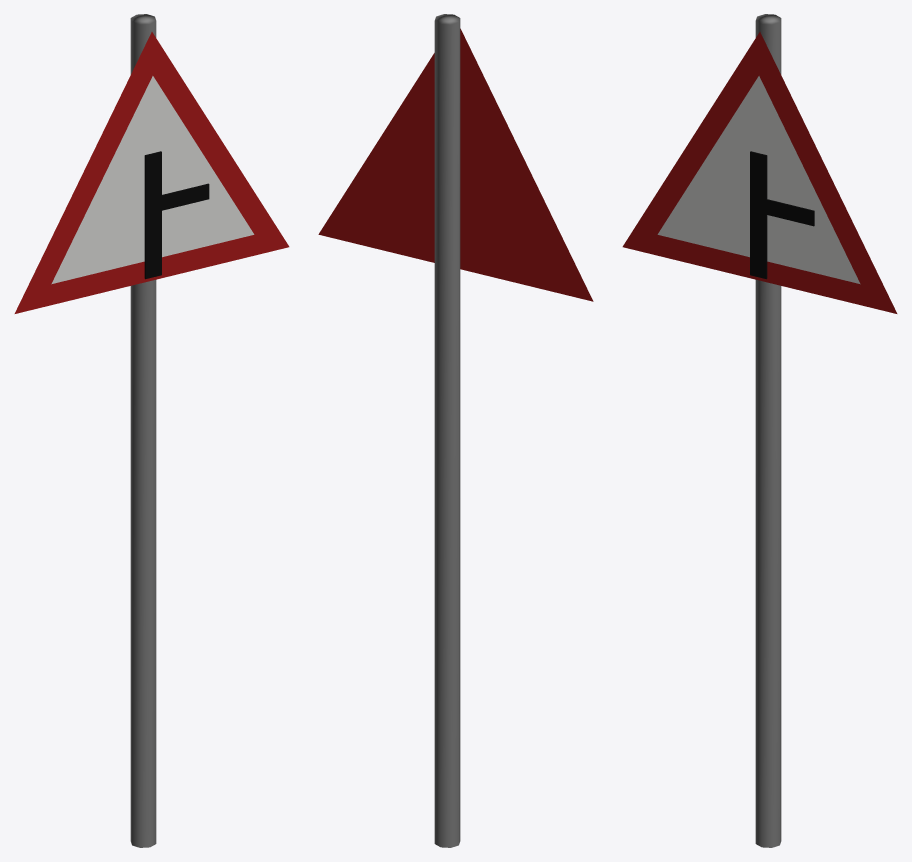
Rendered from street.traffic.sign_junction.glb.
3 views of the same model, side by side, from view 1: azimuth 30°, elevation 25°; view 2: azimuth 150°, elevation 25°; view 3: azimuth 330°, elevation 25° (orthographic).
Parts seen in each view (by area): view 1: main__paint_eed, main__steel_888, main__paint_a11, main__rubber; view 2: main__paint_a11, main__steel_888; view 3: main__paint_eed, main__steel_888, main__paint_a11, main__rubber.
Part boxes in pixels (box(x1,y1,x2,y2)): main__paint_eed: box(51, 76, 254, 284); main__steel_888: box(130, 14, 156, 847); main__paint_a11: box(14, 32, 289, 313); main__rubber: box(144, 151, 209, 279); main__paint_a11: box(318, 28, 593, 301); main__steel_888: box(434, 14, 460, 847); main__paint_eed: box(657, 76, 860, 284); main__steel_888: box(755, 14, 781, 847); main__paint_a11: box(622, 32, 897, 313); main__rubber: box(750, 151, 814, 279).
Bounding box in the file's own units: 0.84 × 2.4 × 0.089.
